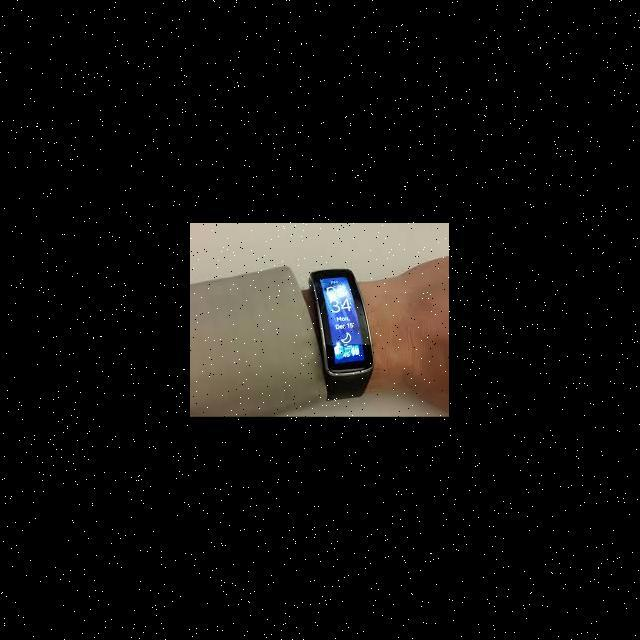watch: (308, 250, 392, 403)
